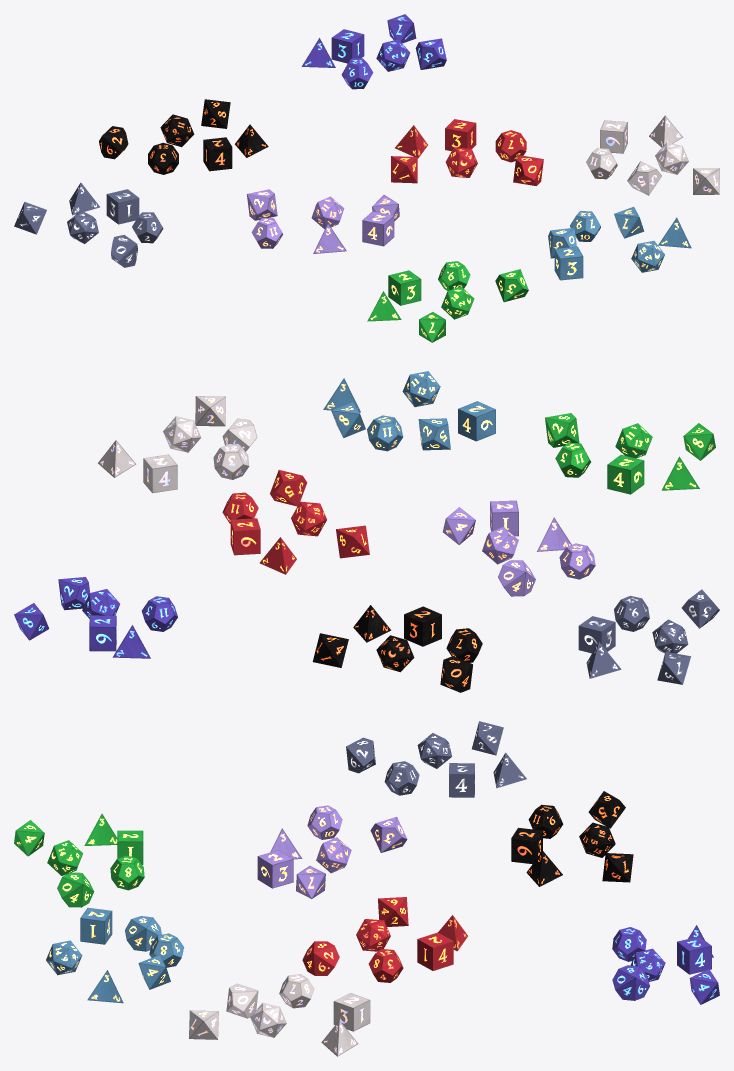
Rendered from dices.glb.
3 views of the same model, one above another, from view 1: azimuth 30°, elevation 25°; view 2: azimuth 150°, elevation 25°; view 3: azimuth 270°, elevation 25° (orthographic). The views are drawn at different scales.
Parts seen in each view (by area): view 1: LP.060, LP.056, LP.025, LP.012, LP.009, LP.050, LP.032, LP.035, LP.048, LP.030, LP.031, LP.010 (+35 smaller); view 2: LP.050, LP.060, LP.009, LP.035, LP.056, LP.032, LP.011, LP.012, LP.037, LP.008, LP.054, LP.019 (+36 smaller); view 3: LP.032, LP.025, LP.035, LP.012, LP.009, LP.010, LP.050, LP.059, LP.031, LP.017, LP.058, LP.054 (+33 smaller).
Boxes of the visible parts, x1,y1,x2,y2 form: LP.060: [388, 270, 421, 305]; LP.056: [106, 189, 139, 224]; LP.025: [362, 211, 394, 246]; LP.012: [331, 29, 364, 63]; LP.009: [554, 246, 583, 280]; LP.050: [203, 137, 232, 171]; LP.032: [445, 119, 476, 150]; LP.035: [600, 120, 627, 153]; LP.048: [148, 142, 178, 174]; LP.030: [495, 130, 526, 162]; LP.031: [513, 155, 543, 185]; LP.010: [415, 38, 446, 69]; LP.050: [404, 606, 441, 646]; LP.060: [607, 455, 644, 494]; LP.009: [458, 401, 495, 441]; LP.035: [143, 454, 177, 493]; LP.056: [578, 616, 615, 653]; LP.032: [230, 518, 260, 555]; LP.011: [498, 560, 535, 596]; LP.012: [89, 615, 116, 651]; LP.037: [213, 443, 249, 479]; LP.008: [559, 543, 595, 579]; LP.054: [614, 595, 649, 631]; LP.019: [367, 415, 403, 451]; LP.032: [417, 932, 453, 970]; LP.025: [257, 850, 293, 888]; LP.035: [333, 993, 370, 1031]; LP.012: [677, 936, 711, 974]; LP.009: [80, 907, 112, 944]; LP.010: [612, 965, 649, 1000]; LP.050: [511, 827, 542, 864]; LP.059: [57, 872, 94, 907]; LP.031: [302, 941, 339, 975]; LP.017: [125, 916, 161, 951]; LP.058: [110, 855, 144, 890]; LP.054: [384, 761, 419, 795].
Bounding box in the file's own units: 6.14 × 0.2665 × 5.84.
Materials: 8 (8 with a texture image).
